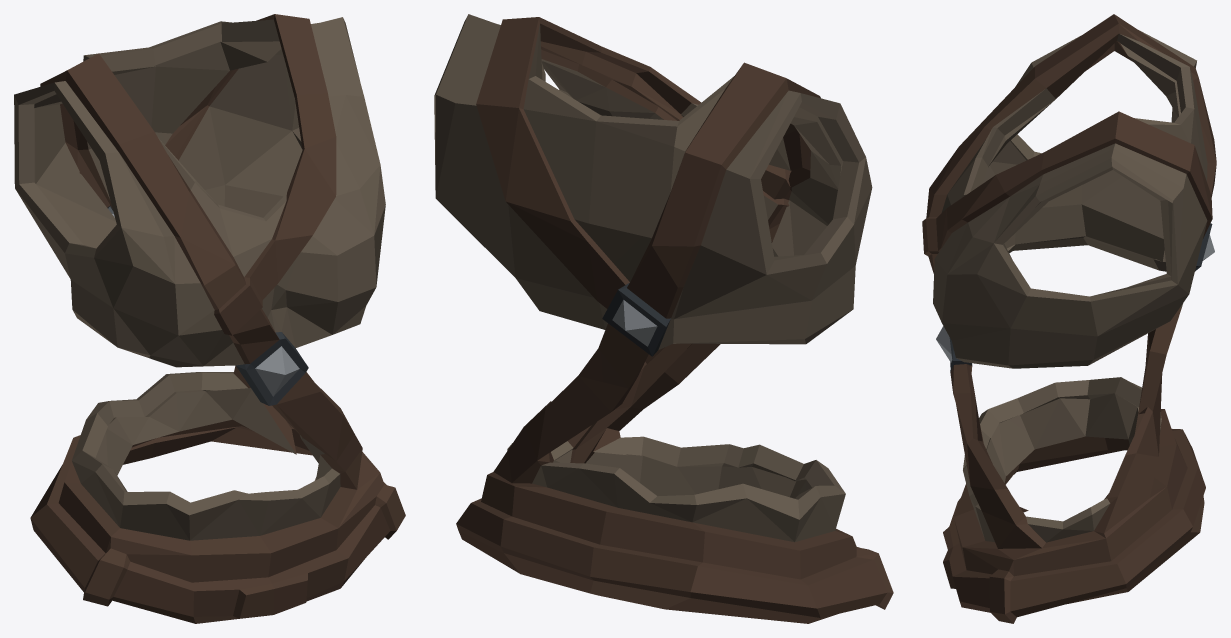
The model's file is Chr_Torso_Female_01_Drop.fbx.
3 views of the same model, side by side, from view 1: azimuth 30°, elevation 25°; view 2: azimuth 150°, elevation 25°; view 3: azimuth 270°, elevation 25° (orthographic). The views are drawn at different scales.
Visible parts, largest first — view 1: Chr_Torso_Female_01_Static; view 2: Chr_Torso_Female_01_Static; view 3: Chr_Torso_Female_01_Static.
Boxes of the visible parts, x1=… form: Chr_Torso_Female_01_Static: x1=14, y1=14, x2=405, y2=623; Chr_Torso_Female_01_Static: x1=434, y1=14, x2=893, y2=623; Chr_Torso_Female_01_Static: x1=922, y1=14, x2=1216, y2=623.
Bounding box in the file's own units: 0.4018 × 0.6268 × 0.3263.
